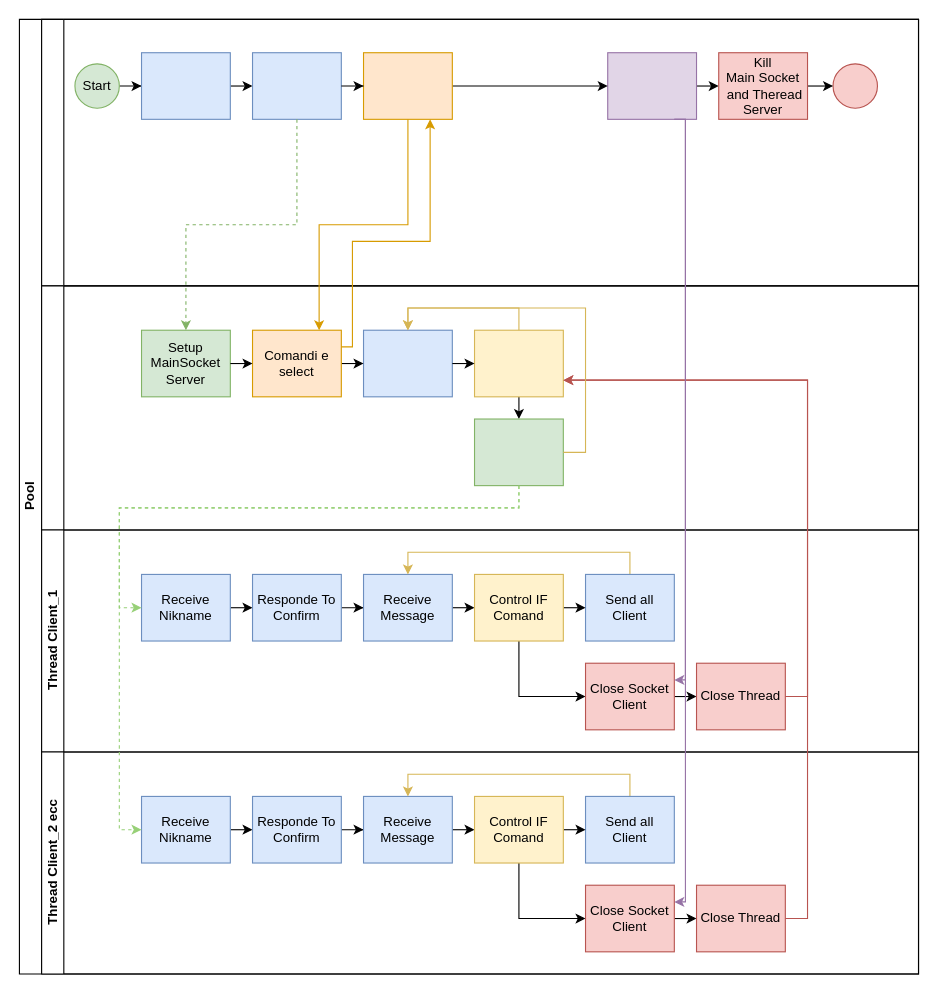
Some shapes in this 938 by 993 pixel diagram are drawn without their labels. Here are the shapes that lost their labels. From the top down, the box of each, then its label:
(140, 52, 230, 119): Preparazione main Set VAR GLOBAL
(251, 52, 341, 119): Create Thread Server
(362, 52, 452, 119): Input Comandi
(607, 52, 697, 119): Kill All Theread Client
(832, 63, 877, 108): END
(41, 18, 919, 286): Thread Main
(362, 329, 452, 397): Attesa Client Request
(473, 329, 563, 397): Verifica Disponibilità Socket
(41, 285, 919, 530): Thread Server
(473, 418, 563, 486): Inizializzazione Socket e Start
